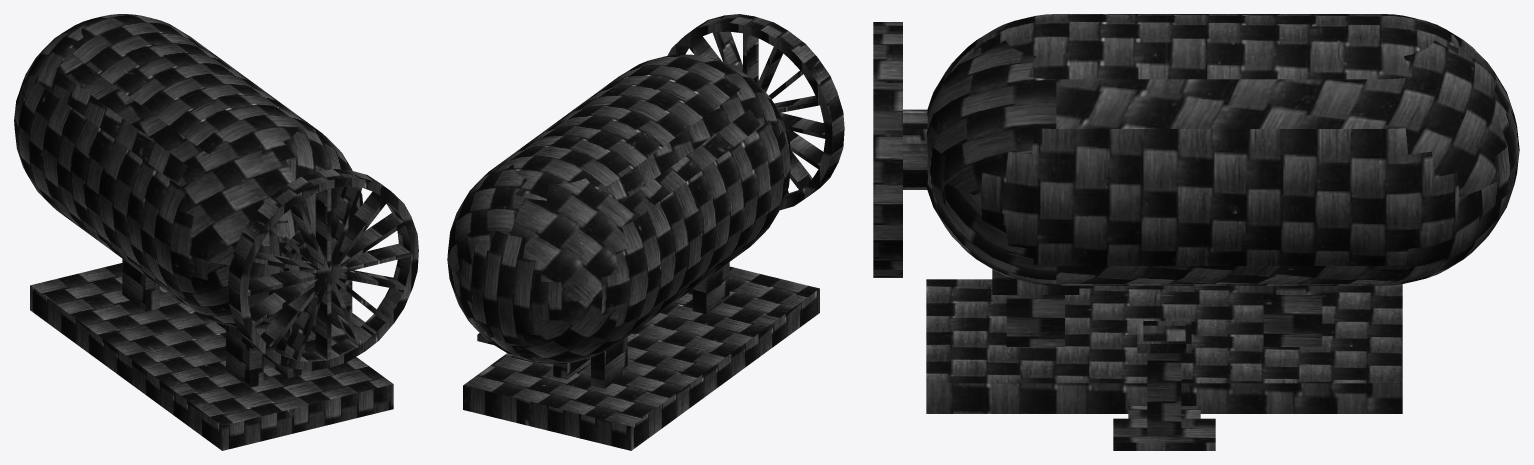
Rendered from Hades_Device.dae.
3 renders of one model, left to right at view 1: azimuth 30°, elevation 25°; view 2: azimuth 150°, elevation 25°; view 3: azimuth 270°, elevation 25°, orthographic. The views are drawn at different scales.
Parts seen in each view (by area): view 1: Hades Device; view 2: Hades Device; view 3: Hades Device.
Boxes of the visible parts, x1=… form: Hades Device: x1=14, y1=14, x2=418, y2=450; Hades Device: x1=447, y1=14, x2=844, y2=450; Hades Device: x1=873, y1=14, x2=1519, y2=450.
Size of the model in its own units: 2.82 by 5.27 by 3.02.
1 material, 1 textured.
